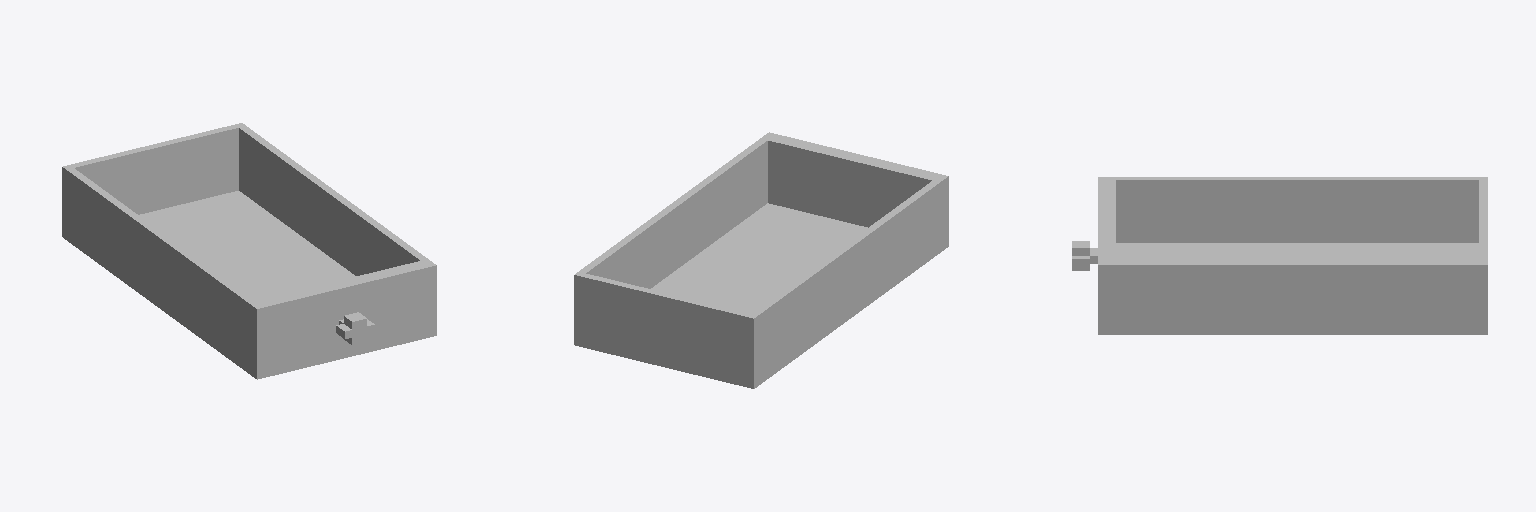
Rendered from bureau Prof-4.obj.
3 views of the same model, side by side, from view 1: azimuth 30°, elevation 25°; view 2: azimuth 150°, elevation 25°; view 3: azimuth 270°, elevation 25° (orthographic).
Visible parts, largest first — view 1: object 1; view 2: object 1; view 3: object 1.
Part boxes in pixels (x1,y1,x2,y2): object 1: (62, 123, 436, 379); object 1: (574, 132, 948, 388); object 1: (1072, 177, 1487, 334).
Bounding box in the file's own units: 2.4 × 0.9 × 4.8.